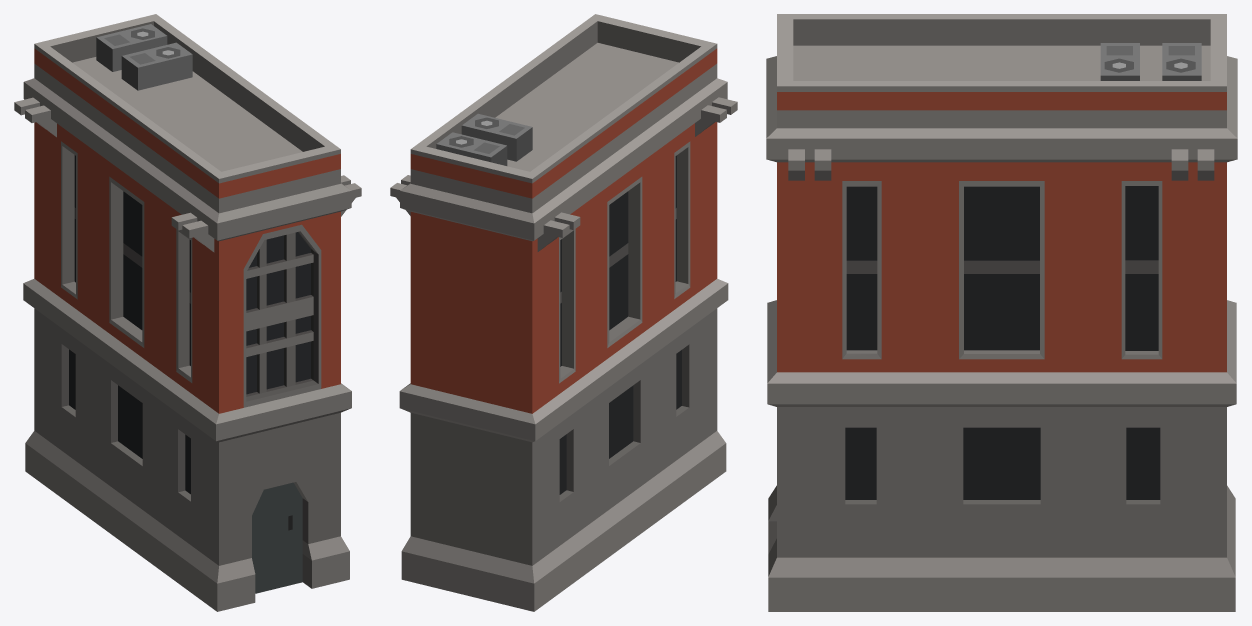
The model's file is SA_Bld_WarehouseOldSmall_01.gltf.
The picture shows the model from 3 angles, left to right: view 1: azimuth 30°, elevation 25°; view 2: azimuth 150°, elevation 25°; view 3: azimuth 270°, elevation 25°; orthographic projection. The views are drawn at different scales.
Visible parts, largest first — view 1: SA_Bld_WarehouseOldSmall_01; view 2: SA_Bld_WarehouseOldSmall_01; view 3: SA_Bld_WarehouseOldSmall_01.
Boxes of the visible parts, left/top/right/bottom form: SA_Bld_WarehouseOldSmall_01: left=14, top=14, right=361, bottom=611; SA_Bld_WarehouseOldSmall_01: left=390, top=14, right=737, bottom=611; SA_Bld_WarehouseOldSmall_01: left=766, top=14, right=1237, bottom=611.
Size of the model in its own units: 7.53 by 17.94 by 14.62.
1 material, 1 textured.
